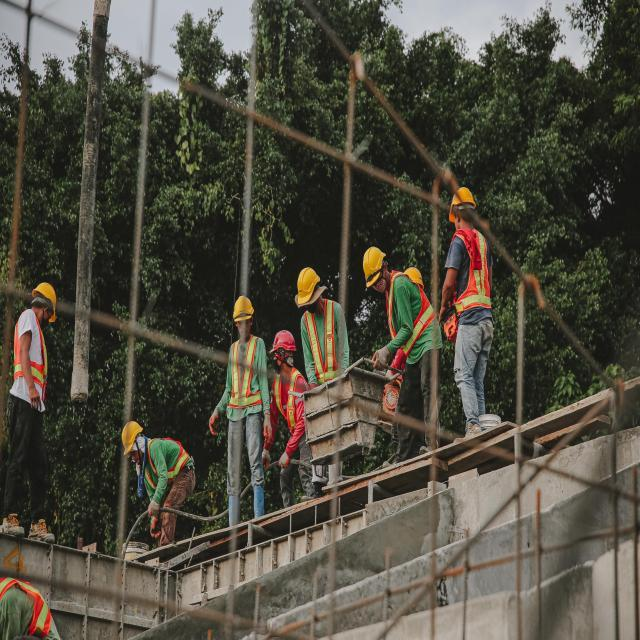helmet: (294, 258, 327, 313), (30, 276, 71, 313), (117, 416, 146, 457), (353, 249, 391, 280), (448, 181, 478, 213), (226, 298, 257, 326)
jacket: (453, 231, 496, 326), (18, 323, 53, 403), (226, 348, 260, 418), (304, 318, 340, 378)
